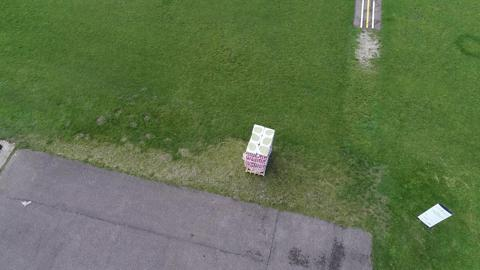RockwoolPallet: (244, 124, 276, 175)
